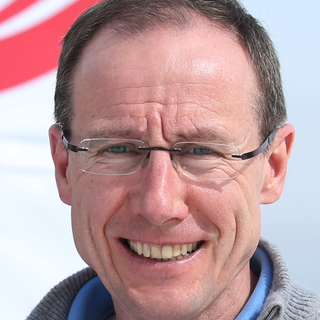eye: (91, 140, 145, 163), (181, 138, 227, 164)
